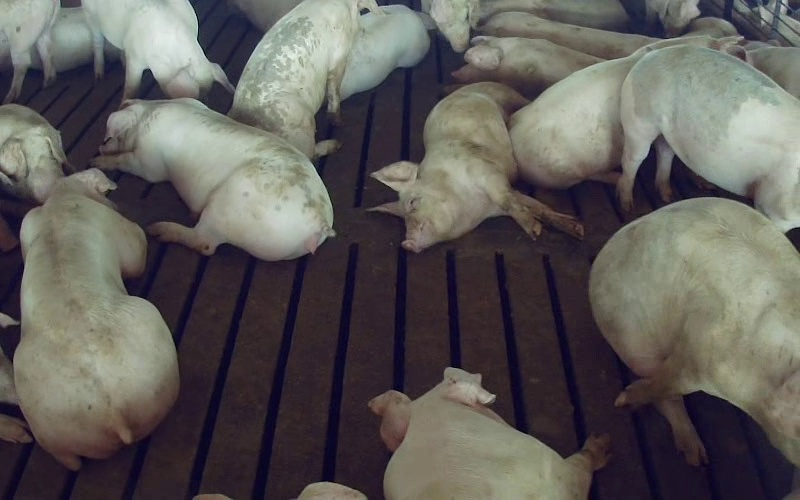pig: (589, 198, 799, 468), (14, 169, 178, 469), (93, 98, 334, 260), (370, 83, 583, 251), (509, 35, 742, 188), (617, 46, 799, 230), (369, 369, 609, 499), (82, 0, 233, 100), (451, 36, 603, 98), (477, 11, 657, 59), (341, 5, 429, 99)
